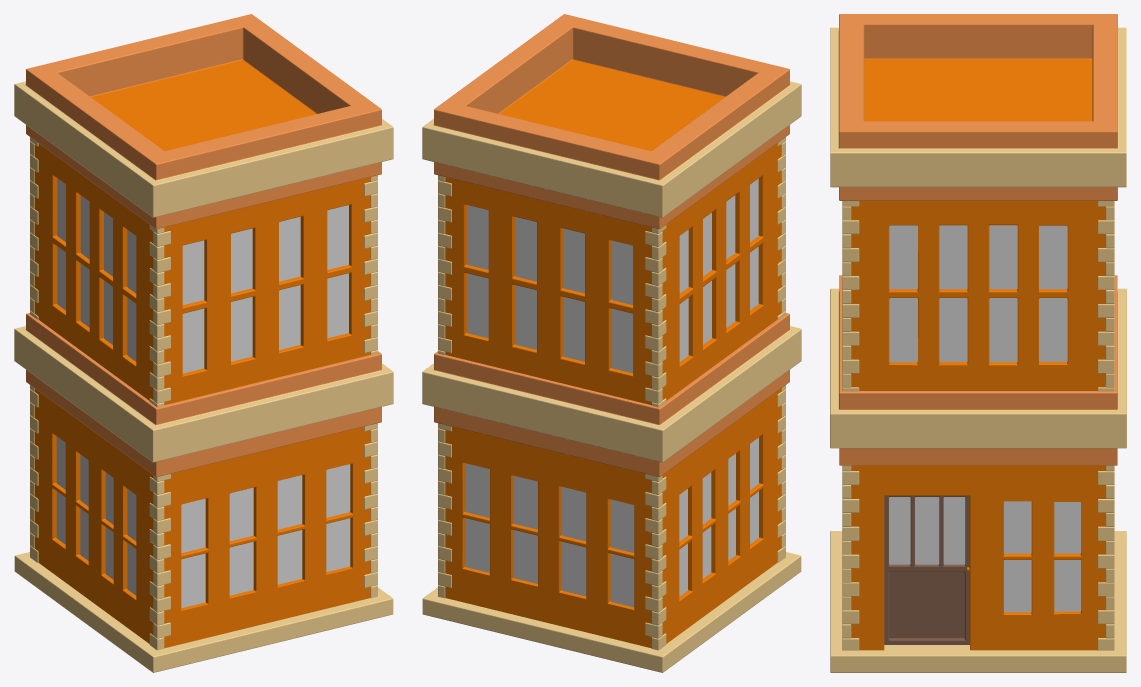
Rendered from villa_1.2.1.fbx.
3 renders of one model, left to right at view 1: azimuth 30°, elevation 25°; view 2: azimuth 150°, elevation 25°; view 3: azimuth 270°, elevation 25°, orthographic. The views are drawn at different scales.
Parts seen in each view (by area): view 1: Building_01; view 2: Building_01; view 3: Building_01.
Boxes of the visible parts, x1=… form: Building_01: x1=14, y1=14, x2=393, y2=672; Building_01: x1=422, y1=14, x2=801, y2=672; Building_01: x1=830, y1=14, x2=1126, y2=672.
Bounding box in the file's own units: 80 × 160 × 80.
